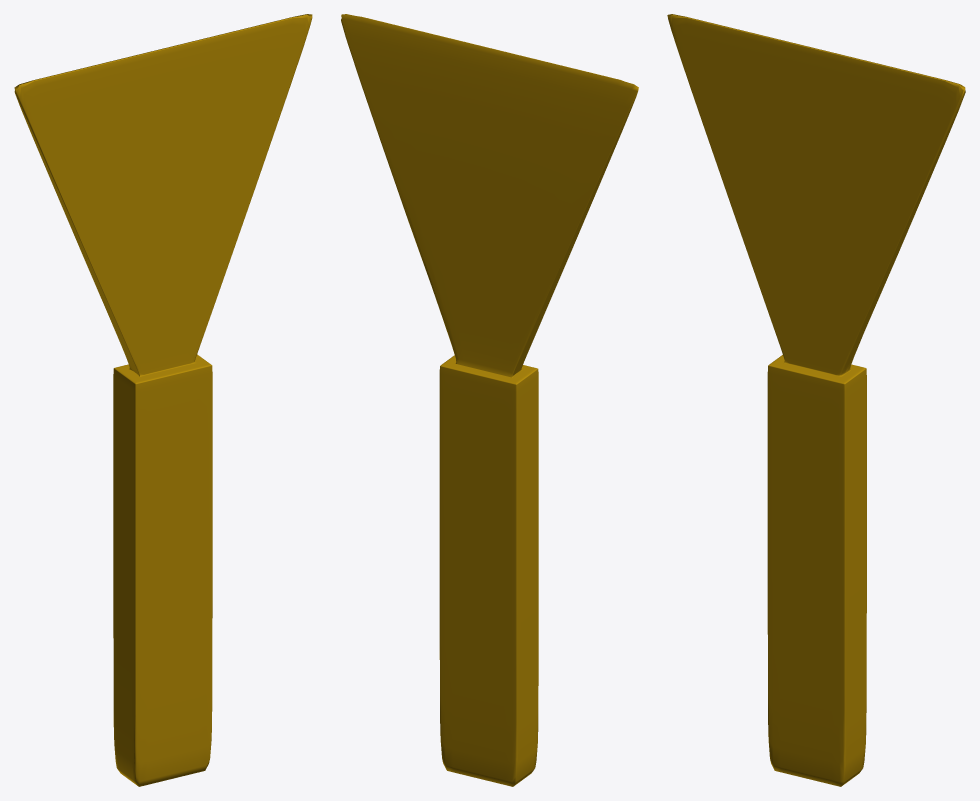
The model's file is SpatulaGold02.fbx.
The picture shows the model from 3 angles, left to right: view 1: azimuth 30°, elevation 25°; view 2: azimuth 150°, elevation 25°; view 3: azimuth 330°, elevation 25°; orthographic projection.
Visible parts, largest first — view 1: pasted__pasted__HighPoly2; view 2: pasted__pasted__HighPoly2; view 3: pasted__pasted__HighPoly2.
Boxes of the visible parts, bbox=[...] form: pasted__pasted__HighPoly2: bbox=[14, 14, 312, 786]; pasted__pasted__HighPoly2: bbox=[341, 14, 638, 786]; pasted__pasted__HighPoly2: bbox=[667, 14, 965, 786].
Size of the model in its own units: 7.69 by 17.84 by 1.
